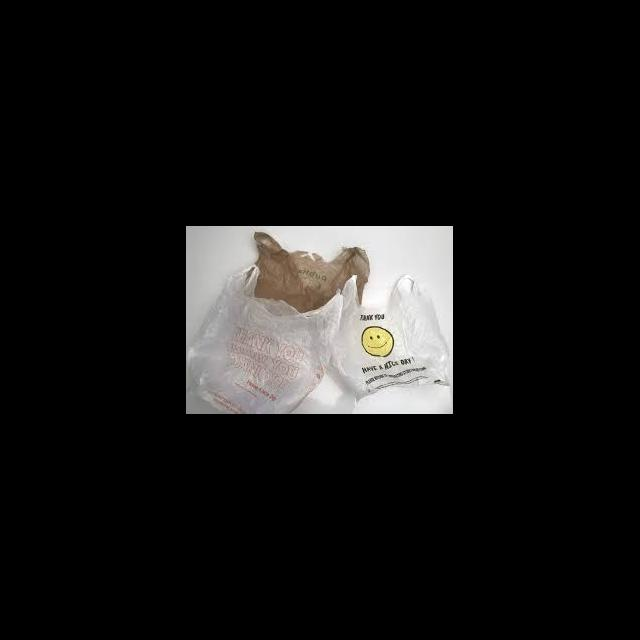plastic: (186, 264, 344, 413), (328, 272, 452, 407), (246, 231, 370, 317)
